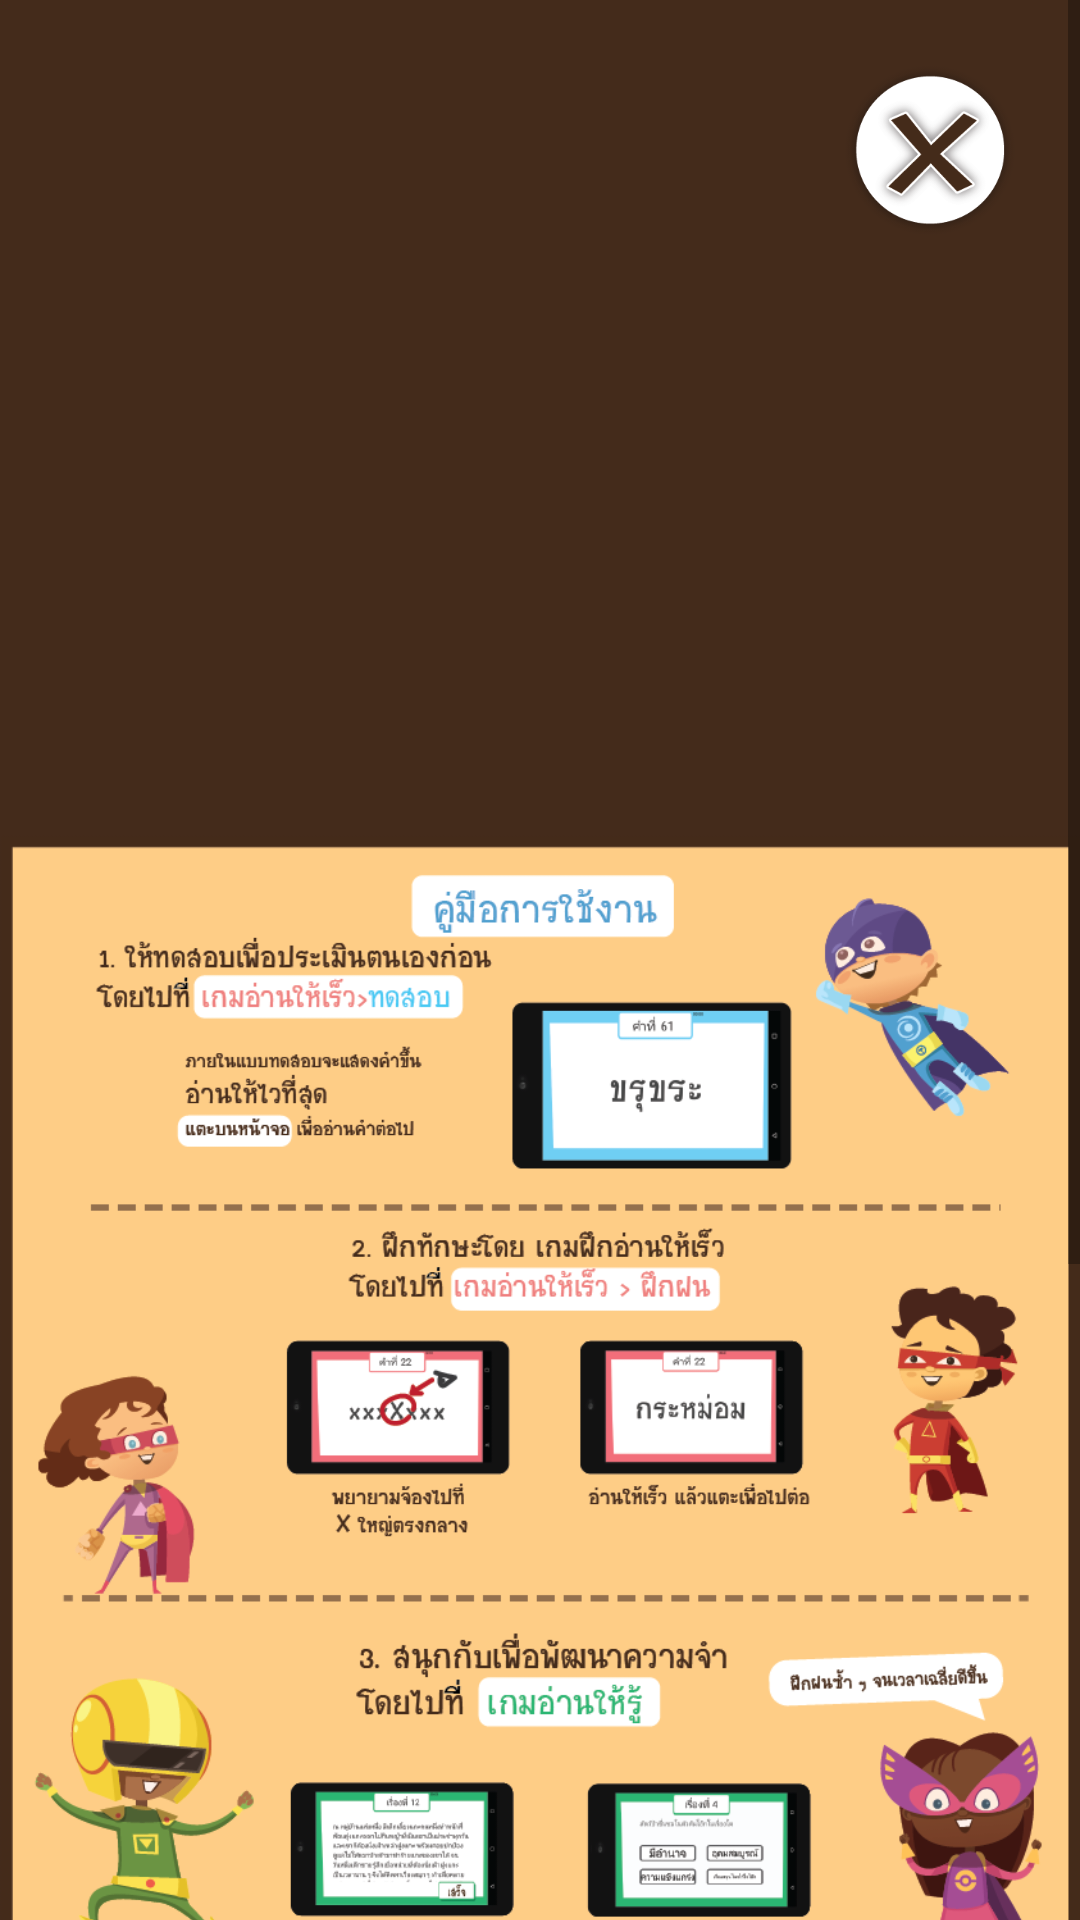

Screen size 1080×1920. Icon name, then its box in pixels as (x1, y1, x2, y2):
close: (856, 76, 1004, 224)
